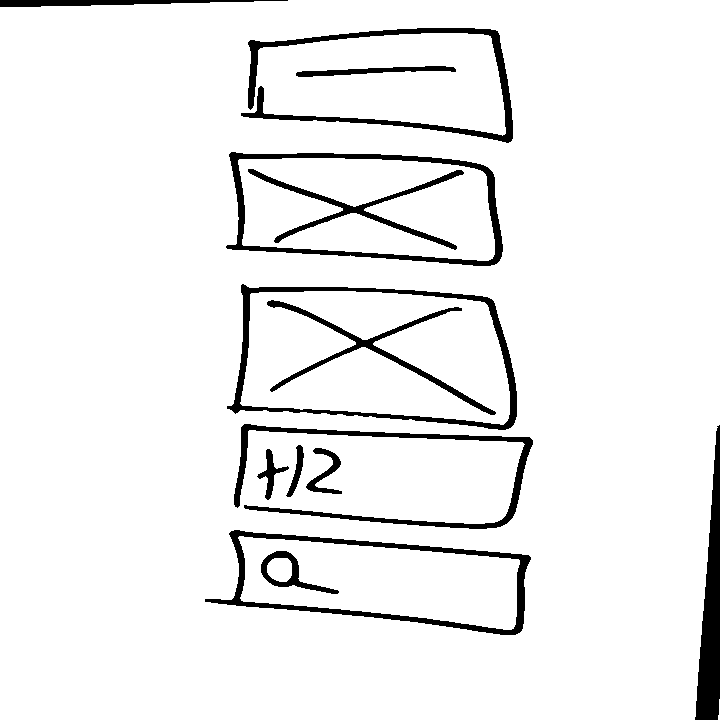button: (229, 26, 528, 147)
heading2: (231, 419, 532, 531)
picture: (224, 282, 527, 432), (224, 143, 512, 274)
search bar: (204, 527, 537, 642)
